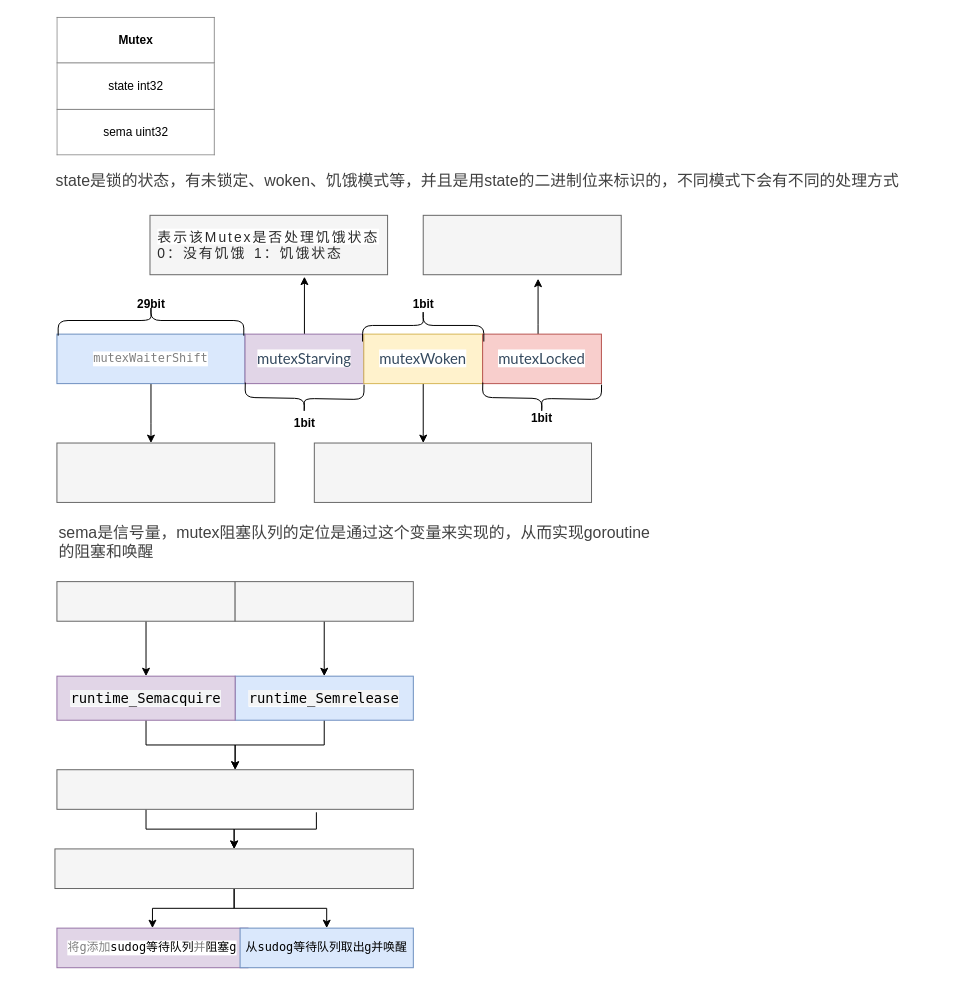
Image size: 954x985. Some labels were removed from this diagram. Here are the shapes that lost their labels. From the top down, the centre of each, then its label:
At point (521, 244): "表示该Mutex是否已被锁定 0：没有锁定 1：已被锁定".
At point (165, 472): "表示阻塞等待锁的协程个数，协程解锁时根据此值来判断是否需要释放信号量".
At point (452, 472): "表示是否有协程已被唤醒 0：没有协程唤醒 1：已有协程唤醒".
At point (145, 601): "Lock".
At point (323, 601): "UnLock".
At point (234, 789): "通过sema变量地址的hash值从 semtable中找到semroot".
At point (233, 868): "通过sema变量地址从 semroot中找到sudog".
